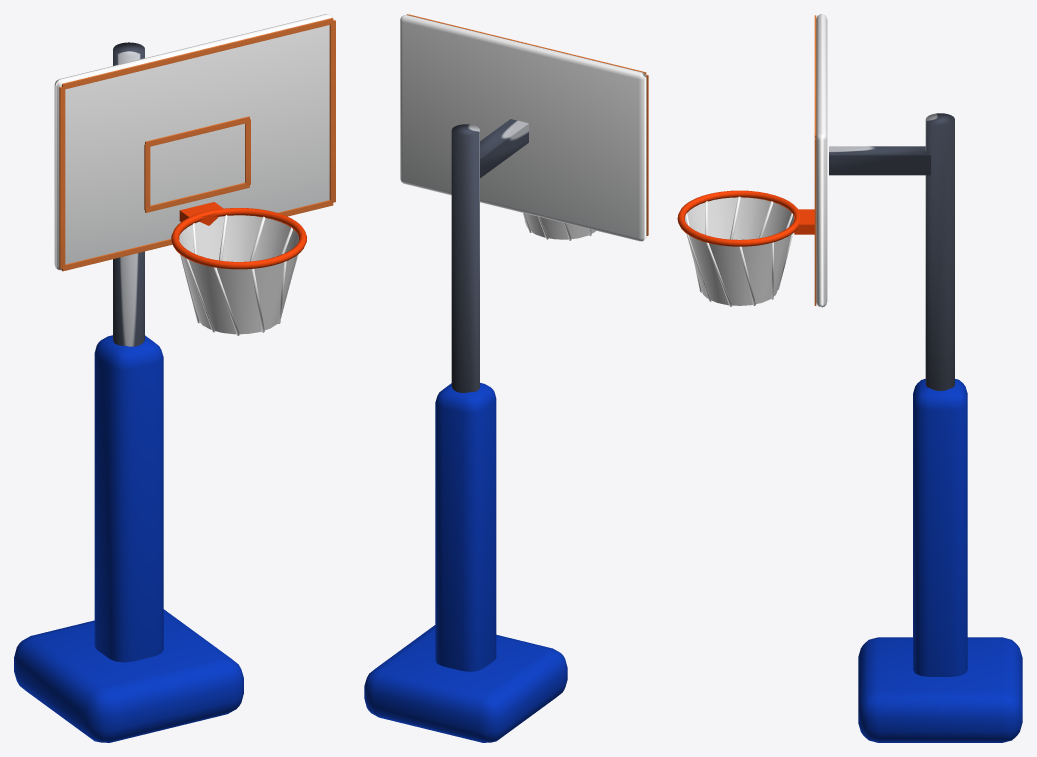
The model's file is Hoop.fbx.
3 views of the same model, side by side, from view 1: azimuth 30°, elevation 25°; view 2: azimuth 150°, elevation 25°; view 3: azimuth 270°, elevation 25° (orthographic). The views are drawn at different scales.
Visible parts, largest first — view 1: Hoop_Body; view 2: Hoop_Body; view 3: Hoop_Body.
Part boxes in pixels (<box>): Hoop_Body: <box>14,14,335,742</box>; Hoop_Body: <box>364,14,648,742</box>; Hoop_Body: <box>677,14,1022,742</box>.
Bounding box in the file's own units: 1.6 × 3.88 × 1.89.
3 materials, 1 textured.
